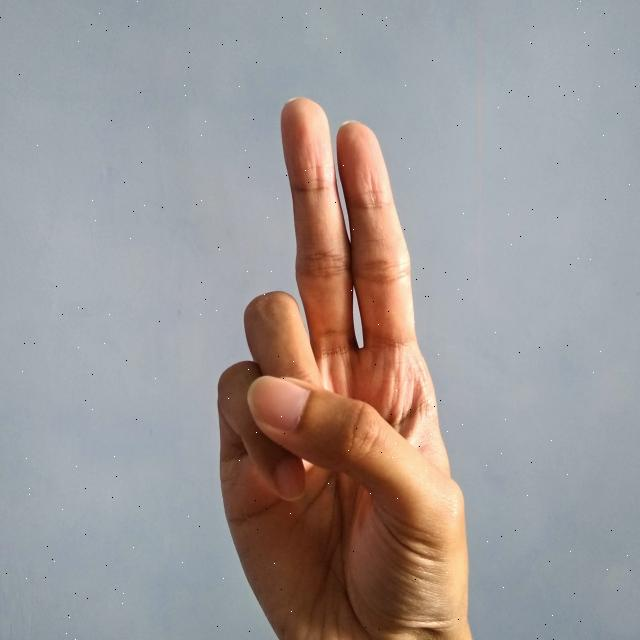U: (207, 91, 471, 640)
